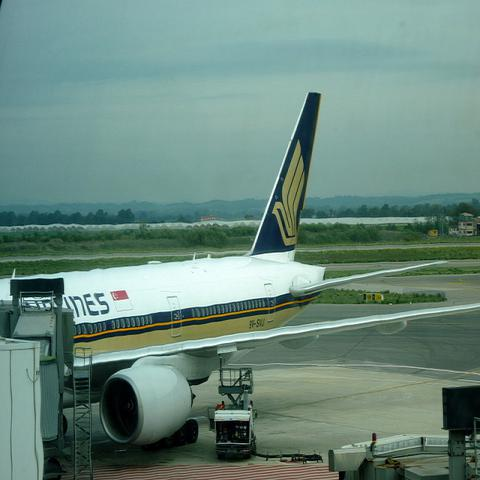truck: (208, 366, 256, 460)
